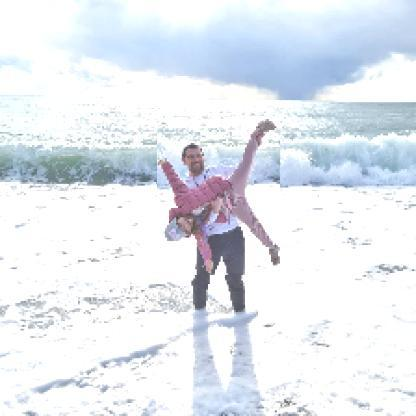child: (158, 117, 282, 277)
